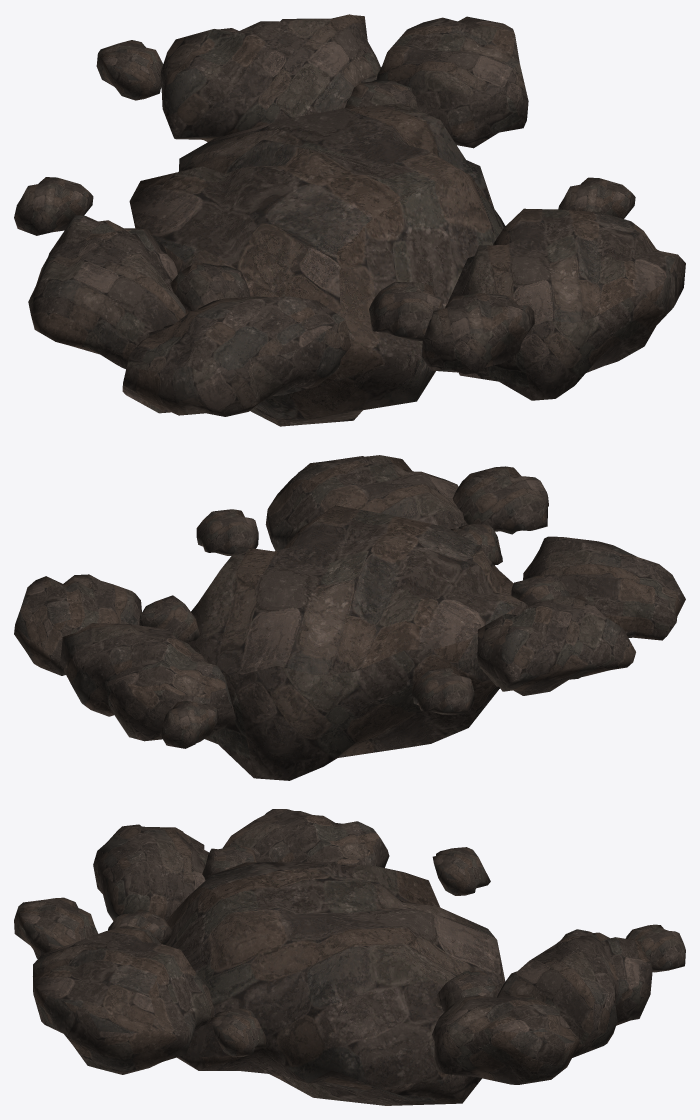
Rendered from aeg270_520.glb.
3 views of the same model, one above another, from view 1: azimuth 30°, elevation 25°; view 2: azimuth 150°, elevation 25°; view 3: azimuth 270°, elevation 25° (orthographic). The views are drawn at different scales.
Parts seen in each view (by area): view 1: mesh[0]; view 2: mesh[0]; view 3: mesh[0].
Part boxes in pixels (x1,y1,x2,y2): mesh[0]: (14, 14, 685, 426); mesh[0]: (14, 455, 685, 780); mesh[0]: (14, 809, 685, 1105).
Bounding box in the file's own units: 4.49 × 1.76 × 5.23.
Materials: 1 (1 with a texture image).
